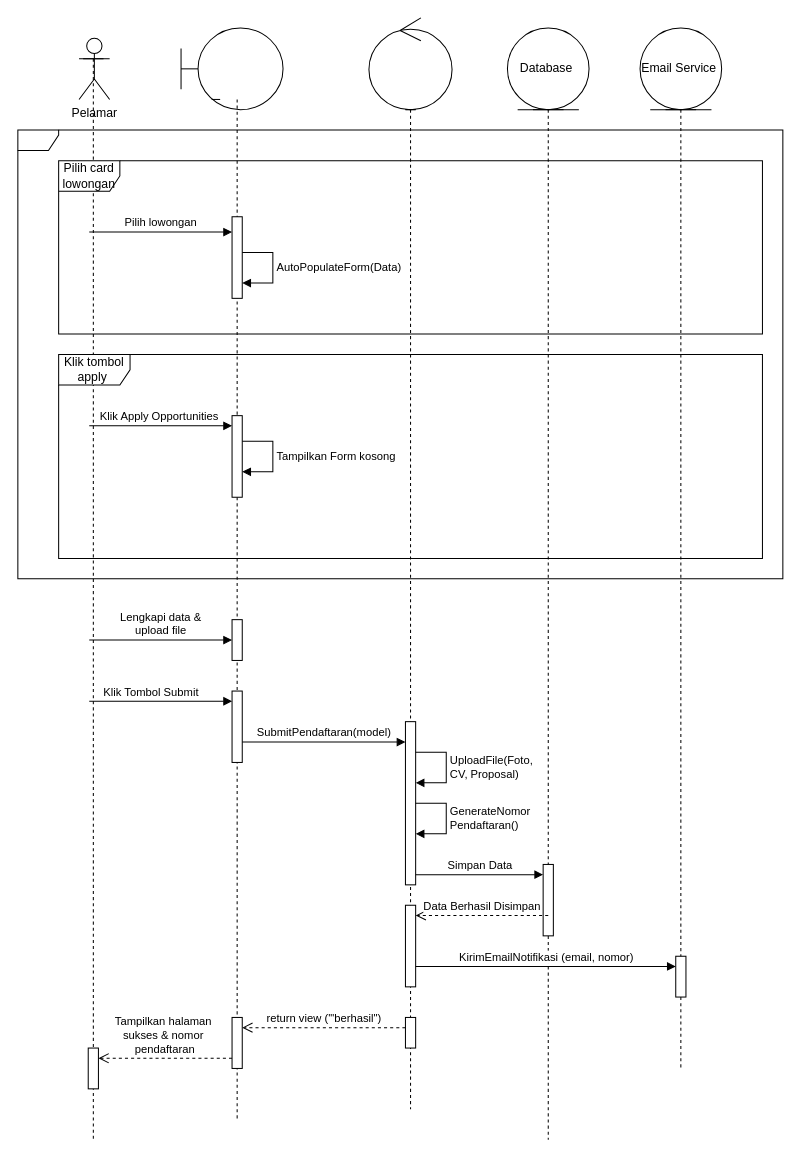
The diagram is 801 pixels wide and 1158 high, and some of its shapes have lost their labels. Here are the shapes that lost their labels. From the top down, the box of each, then its label:
(180, 27, 283, 110): Halaman Formulir
(368, 17, 452, 110): :PenelitianController
(17, 129, 783, 579): alt
